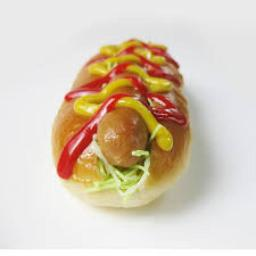hotdog: (51, 37, 191, 211)
